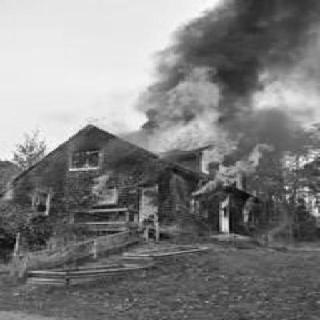Smoke: (194, 5, 302, 64)
